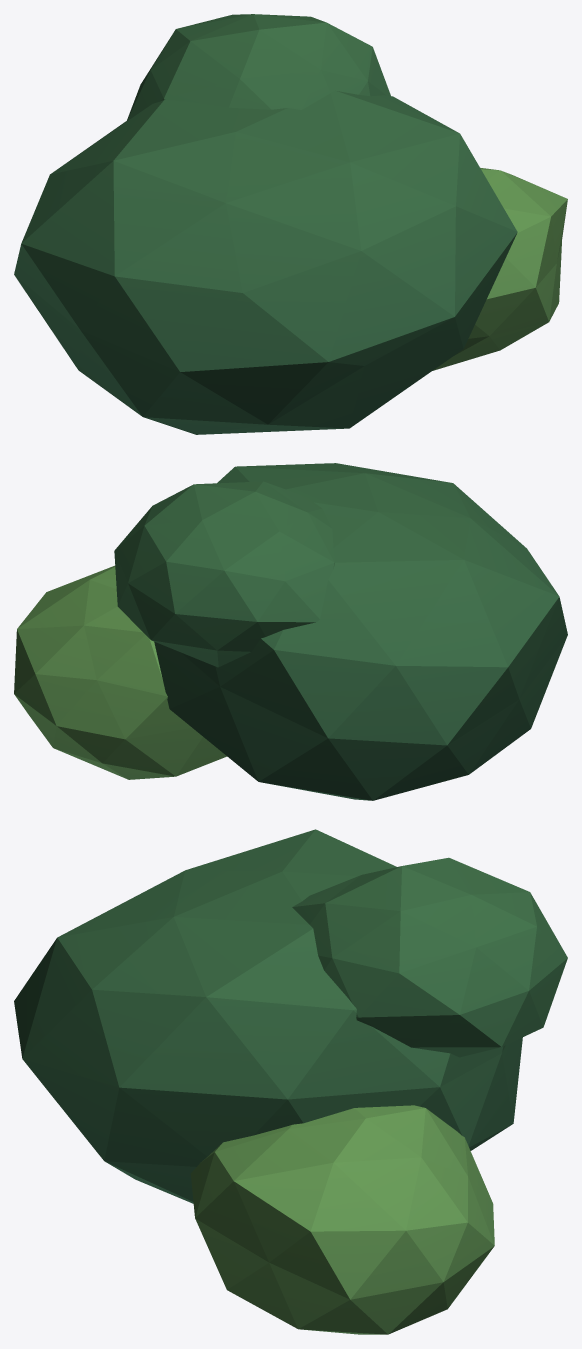
Rendered from bush_b.glb.
3 renders of one model, top to bottom at view 1: azimuth 30°, elevation 25°; view 2: azimuth 150°, elevation 25°; view 3: azimuth 270°, elevation 25°, orthographic. The views are drawn at different scales.
Visible parts, largest first — view 1: bush_b; view 2: bush_b; view 3: bush_b.
Boxes of the visible parts, x1,y1,x2,y2 form: bush_b: (14,14,567,434); bush_b: (14,463,567,800); bush_b: (14,829,567,1334).
Size of the model in its own units: 2.07 by 1.28 by 1.7.
